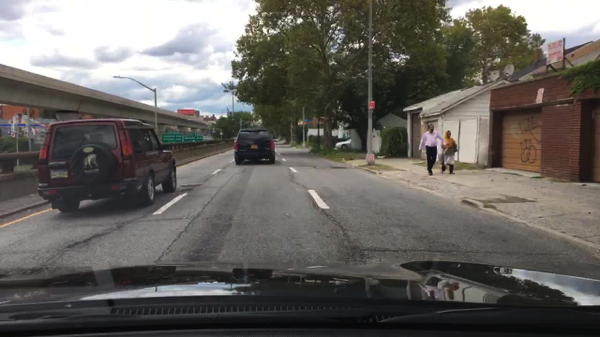car: (37, 118, 176, 213), (233, 128, 275, 166), (334, 139, 352, 150)
person: (417, 123, 444, 176), (438, 127, 458, 174)
traffic light: (249, 121, 255, 128)
traffic sign: (160, 130, 184, 143), (182, 132, 203, 141), (367, 100, 375, 110)
